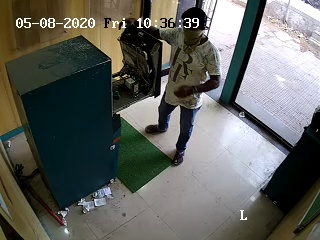open: (138, 2, 275, 125)
